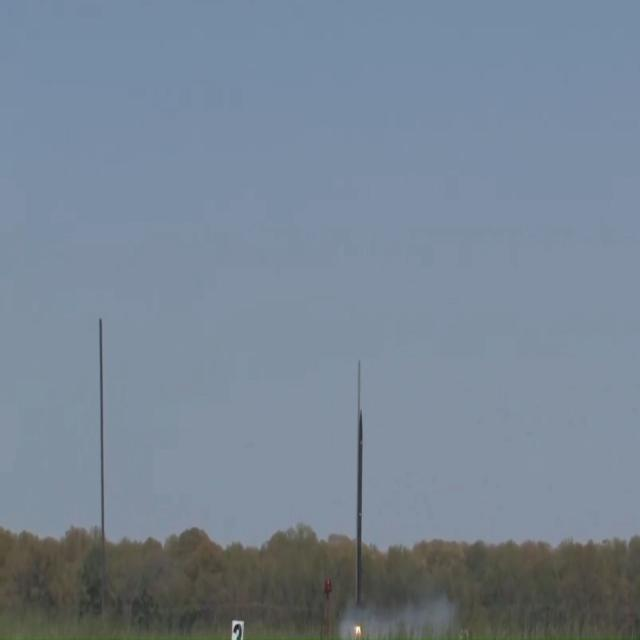Rocket: (357, 410, 364, 628)
